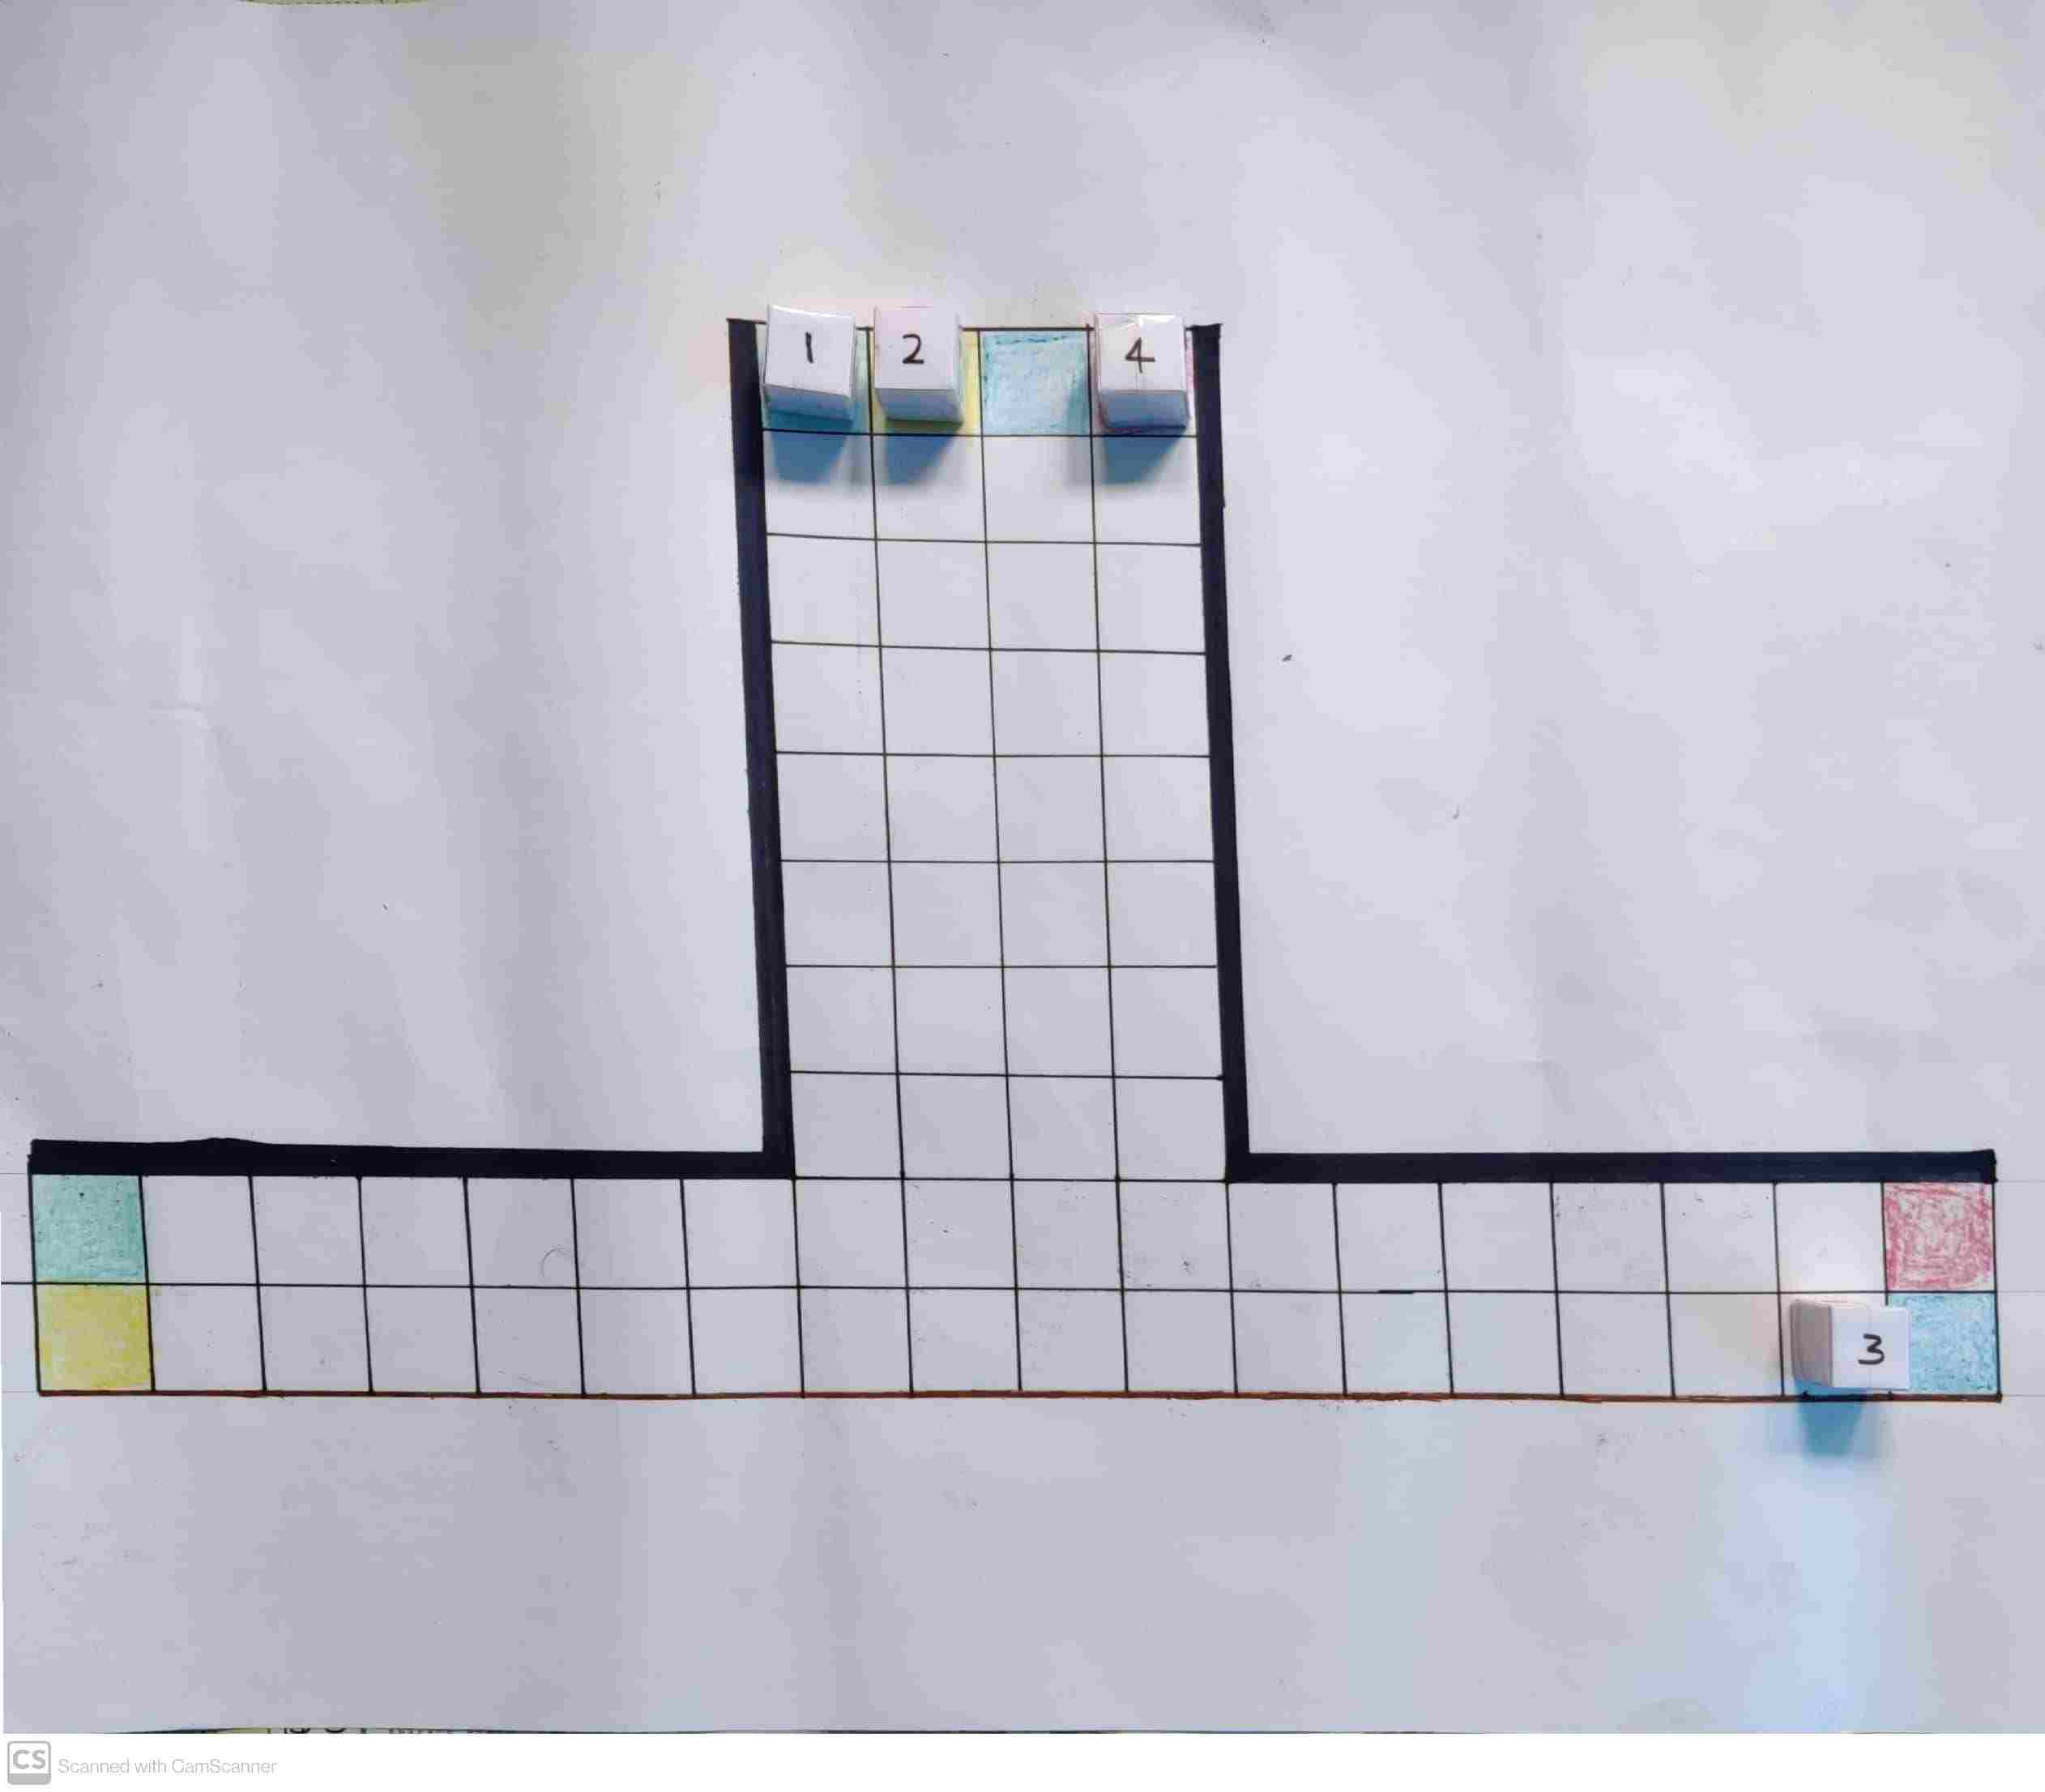arena: (28, 316, 2002, 1403)
bot: (767, 306, 856, 393), (1831, 1304, 1909, 1387), (1099, 320, 1186, 393), (880, 315, 956, 393)
